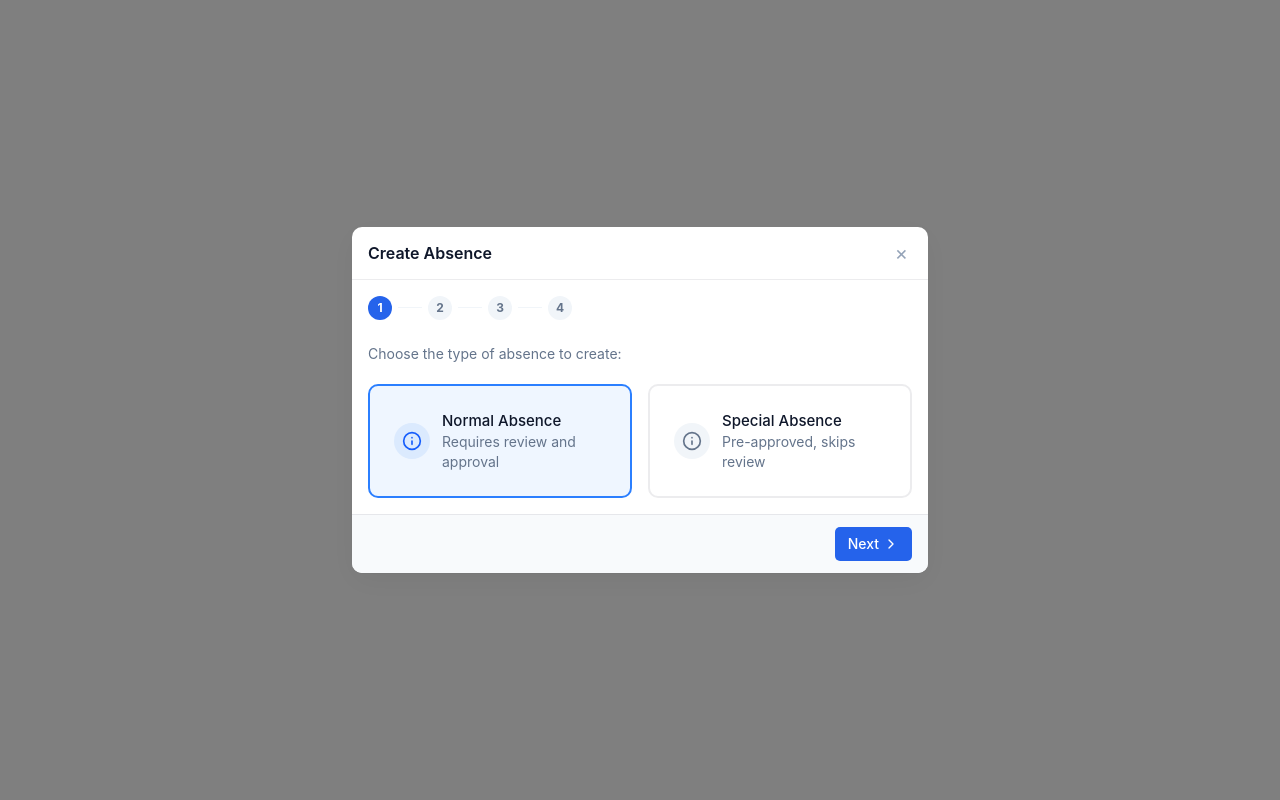
it: StaffCreateAbsenceModal › fetches student data on lookup and shows subjects
Click the button "Next". click: (873, 544)
box: [835,527,912,561]
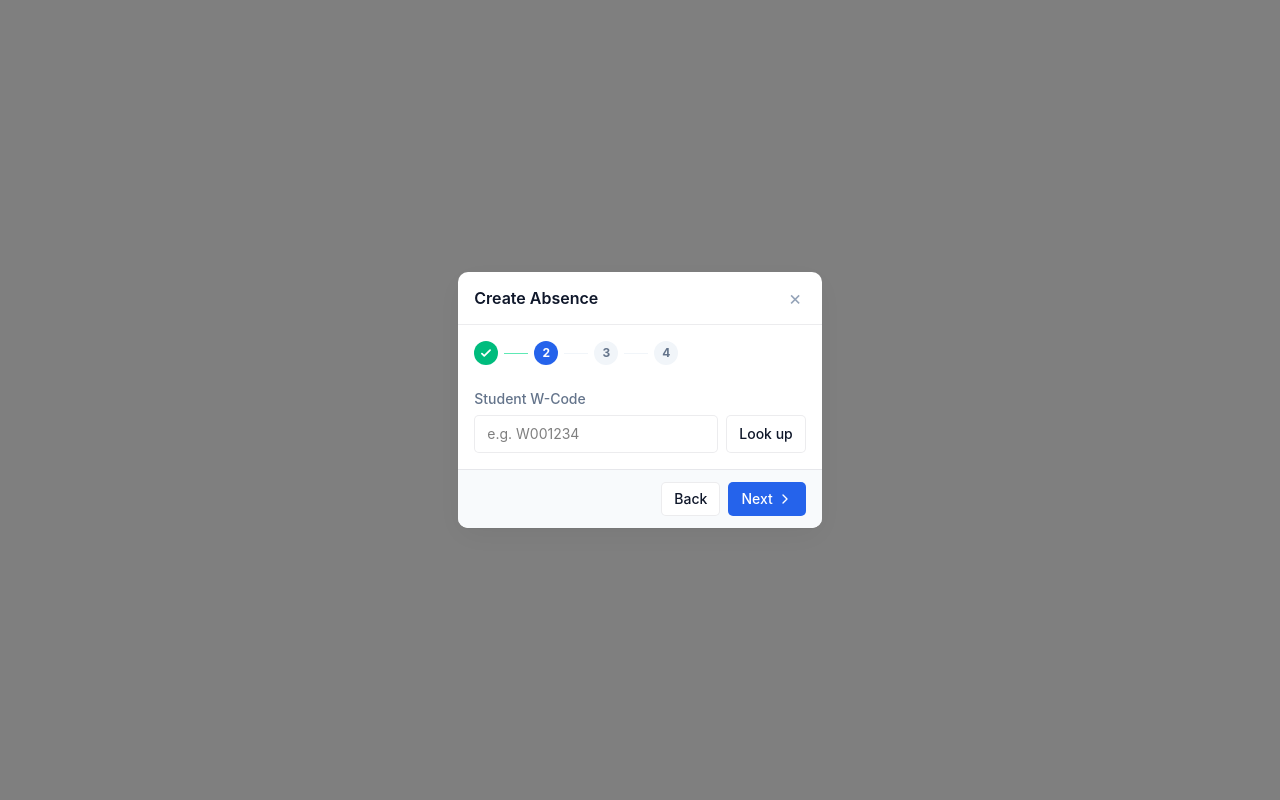
Check: the field labelled "Student W-Code" is shown
Type "W001" into the field labelled "Student W-Code". click: (596, 434)
box: [474,415,718,453]
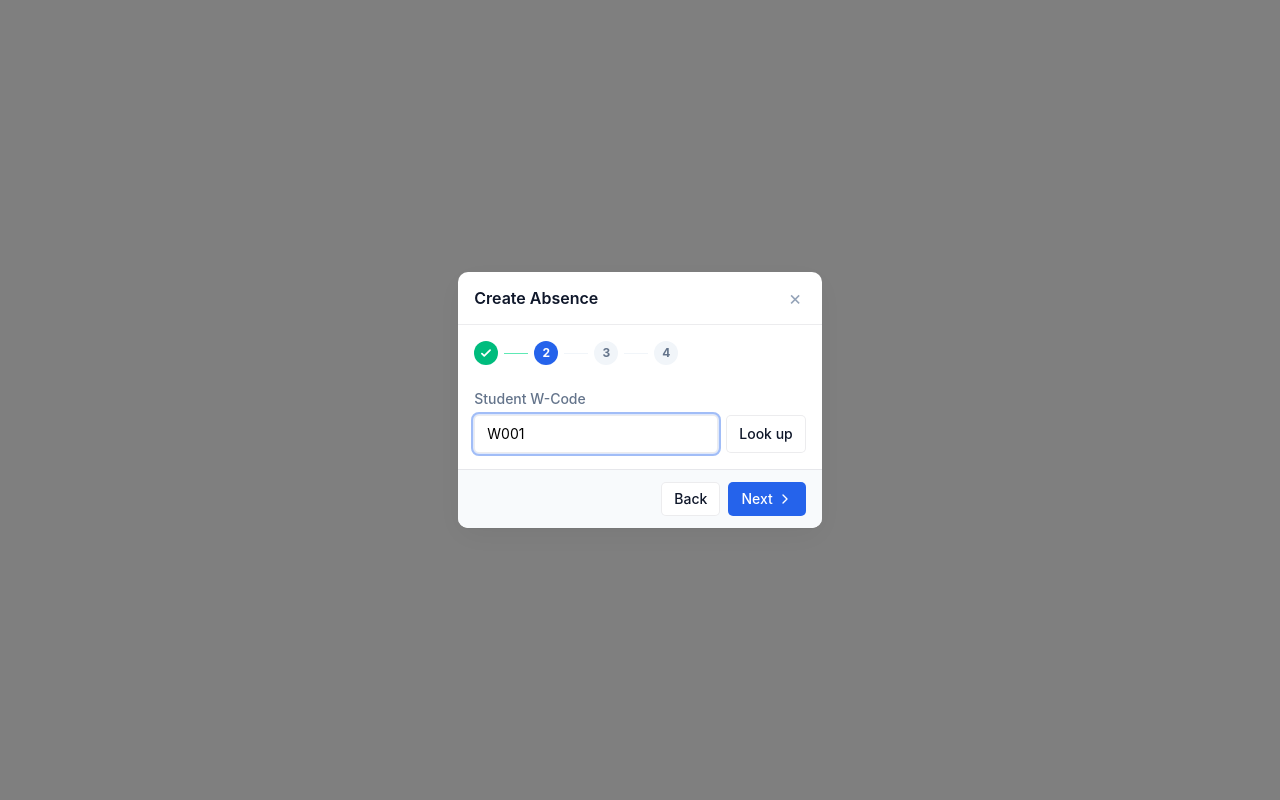
Click the button "Look up". click: (766, 434)
box: [726,415,806,453]
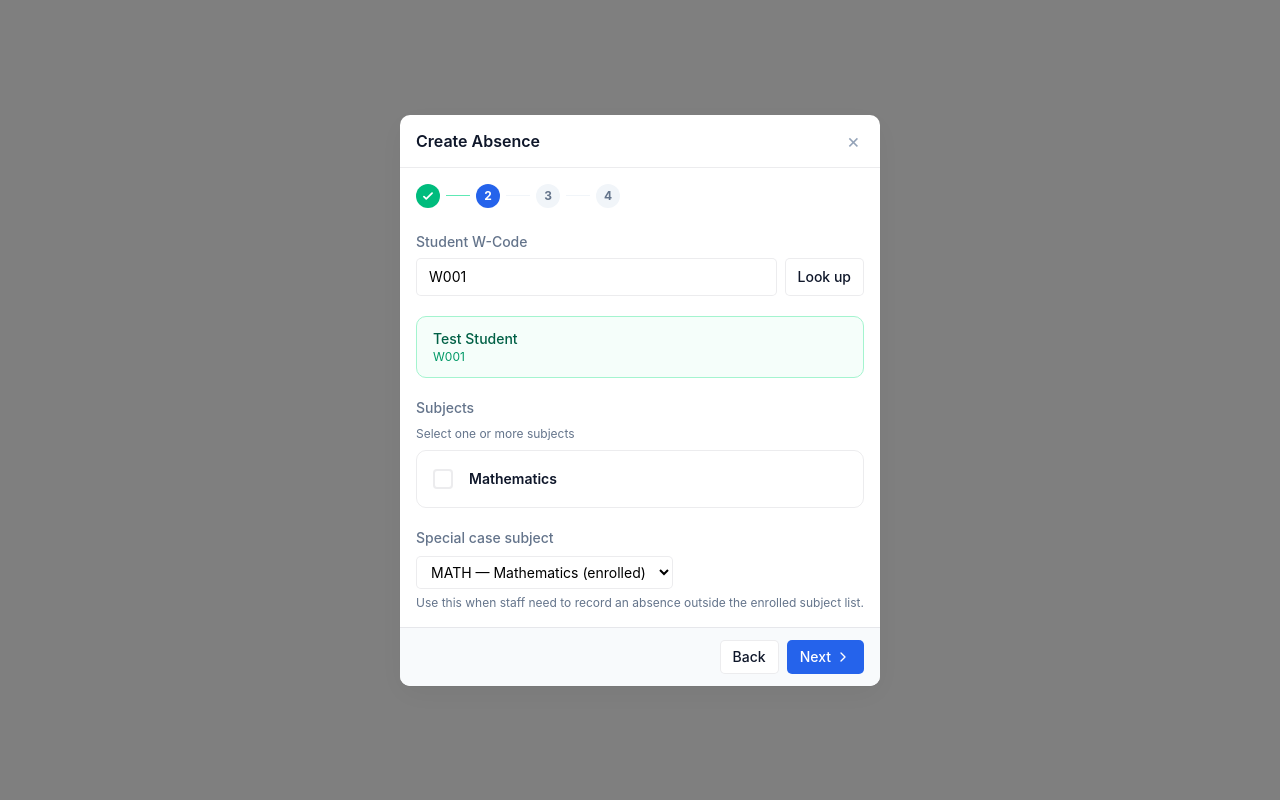
Check: the text "Test Student" is shown, box [433,330,518,346]
Check: the text "Mathematics" is shown, box [469,470,557,486]
